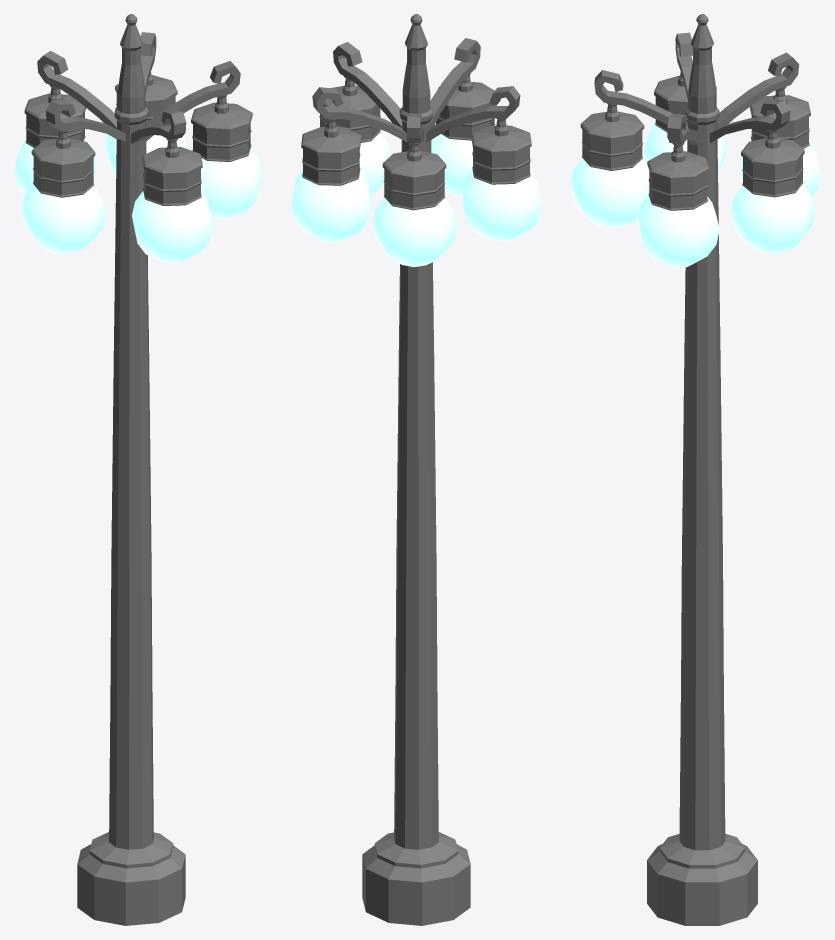
Rendered from StreetLamp_A_01.fbx.
The picture shows the model from 3 angles, left to right: view 1: azimuth 30°, elevation 25°; view 2: azimuth 150°, elevation 25°; view 3: azimuth 270°, elevation 25°; orthographic projection.
Parts seen in each view (by area): view 1: StreetLamp_A_01; view 2: StreetLamp_A_01; view 3: StreetLamp_A_01.
Boxes of the visible parts, x1=… form: StreetLamp_A_01: x1=14, y1=14, x2=262, y2=925; StreetLamp_A_01: x1=291, y1=14, x2=541, y2=925; StreetLamp_A_01: x1=570, y1=14, x2=820, y2=925.
Size of the model in its own units: 212 by 795 by 203.
